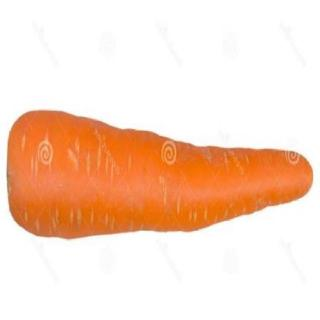carrot: (5, 103, 317, 255)
